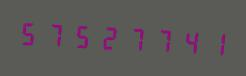five: (17, 14, 42, 51), (69, 17, 94, 54)
four: (173, 22, 198, 59)
one: (199, 24, 224, 61)
seven: (43, 15, 68, 53), (121, 19, 146, 57), (147, 21, 172, 58)
two: (95, 18, 120, 55)
